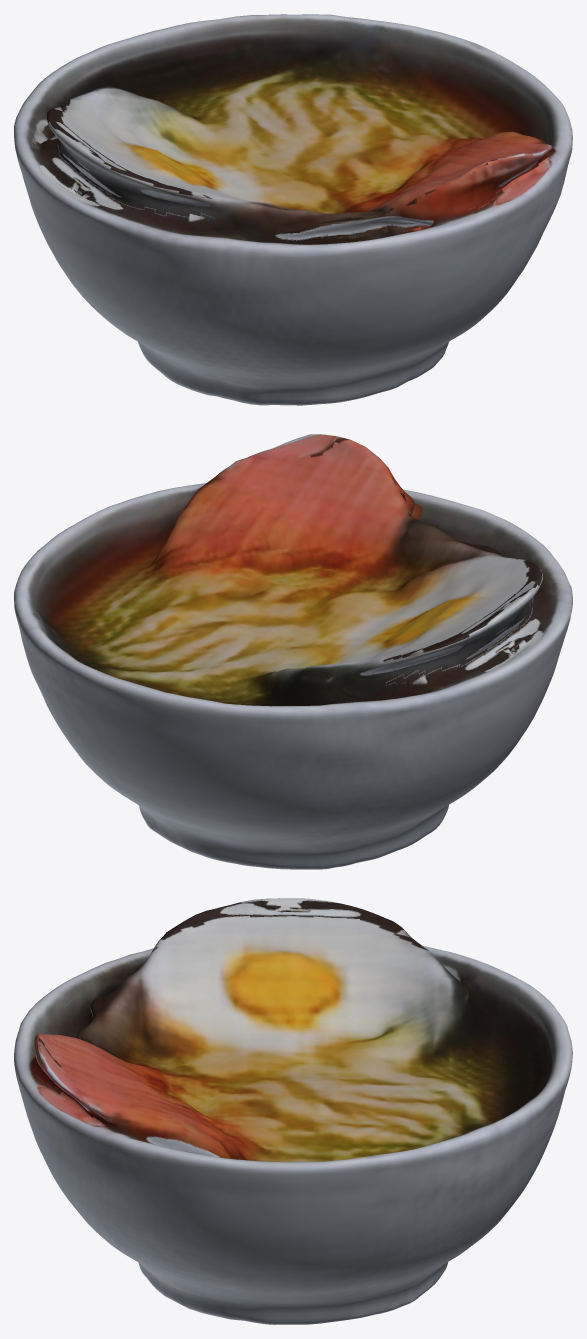
The model's file is ramen.glb.
The picture shows the model from 3 angles, top to bottom: view 1: azimuth 30°, elevation 25°; view 2: azimuth 150°, elevation 25°; view 3: azimuth 270°, elevation 25°; orthographic projection.
Visible parts, largest first — view 1: mesh; view 2: mesh; view 3: mesh.
Part boxes in pixels (bbox=[...]): mesh: bbox=[14, 14, 572, 405]; mesh: bbox=[14, 434, 572, 869]; mesh: bbox=[14, 898, 572, 1324].
Size of the model in its own units: 0.9985 by 0.5098 by 0.996.
1 material, 1 textured.
